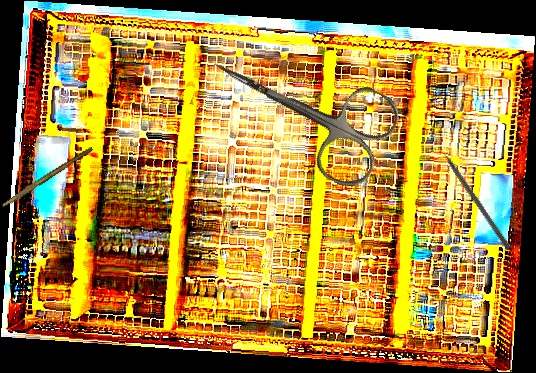Iris Scissors: (192, 17, 406, 196)
Pusher: (433, 138, 513, 251)
Scalpel Handle: (1, 144, 94, 211)
